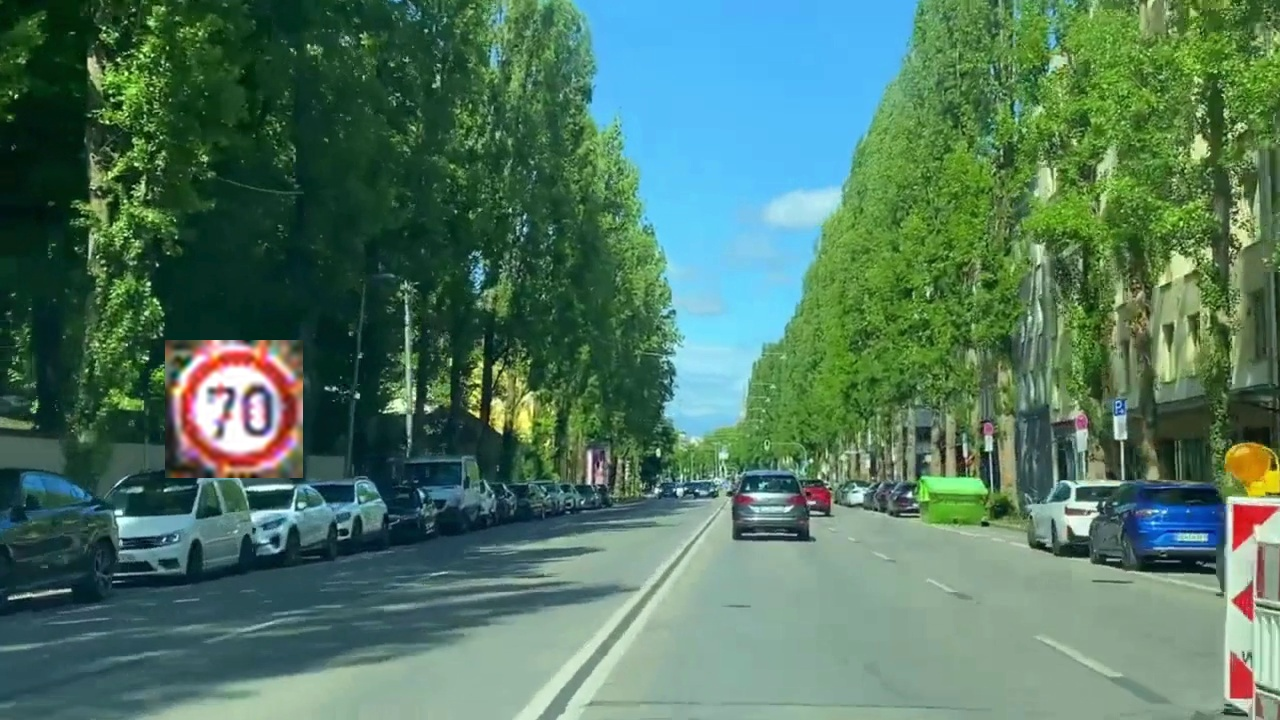Speed 70: (165, 340, 303, 478)
